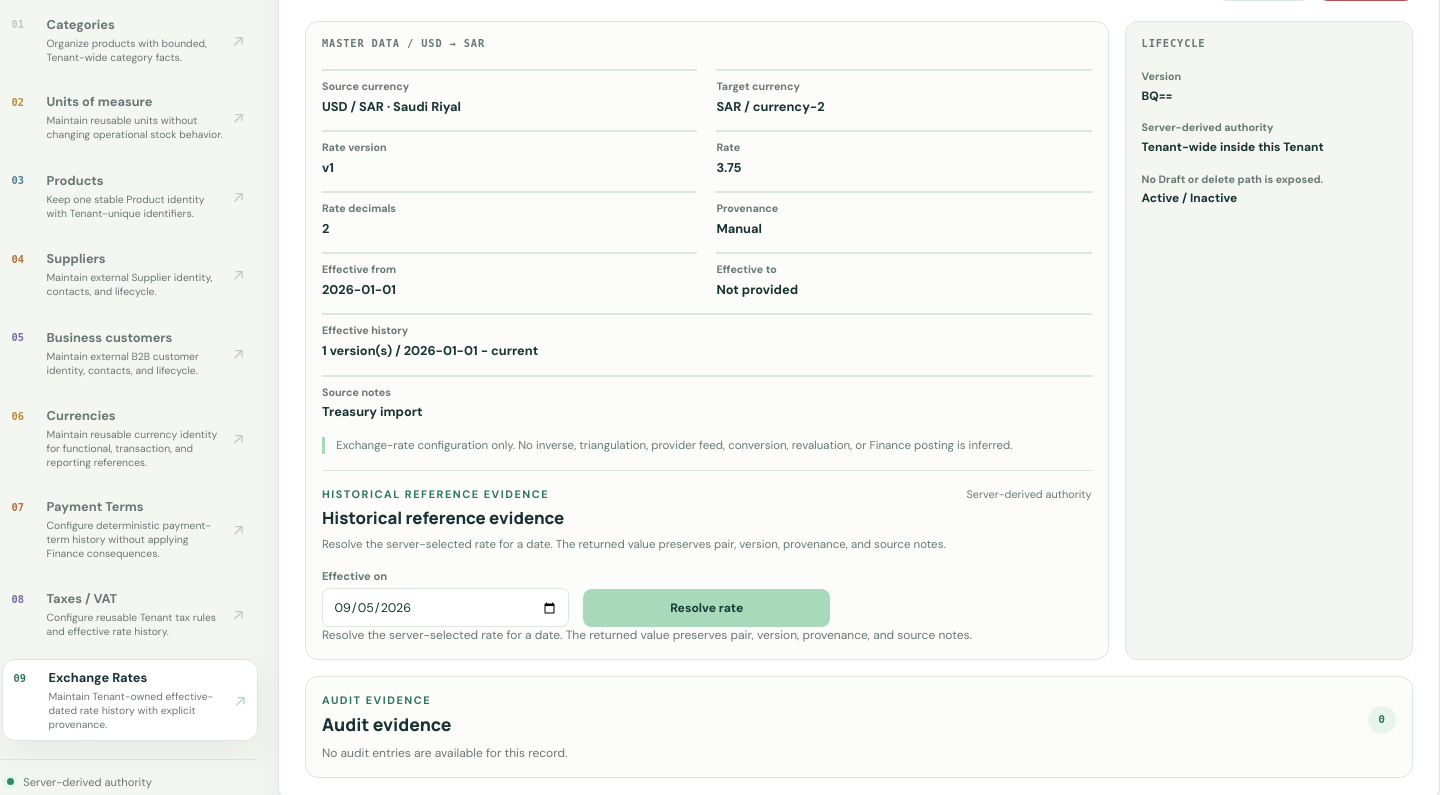
Test case: MasterDataWorkspaceComponent › renders Exchange Rate pair history and resolves historical reference evidence
(page scrolled)
Type "2026-02-01" into the date field named "exchangeReferenceDate" at x=445, y=608, box left=322, top=588, right=569, bottom=627
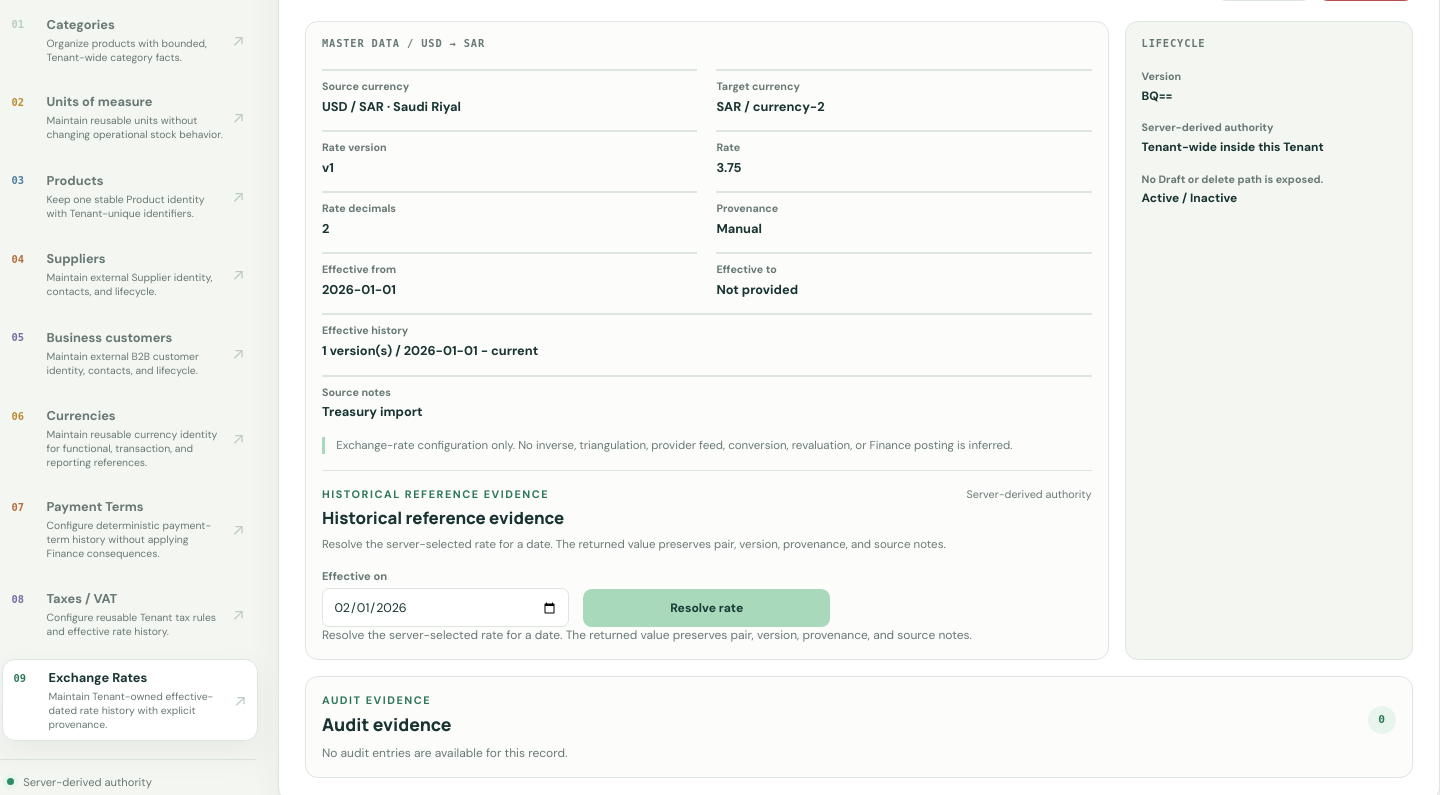
Click the button "Resolve rate" at x=707, y=608, box left=583, top=589, right=830, bottom=627
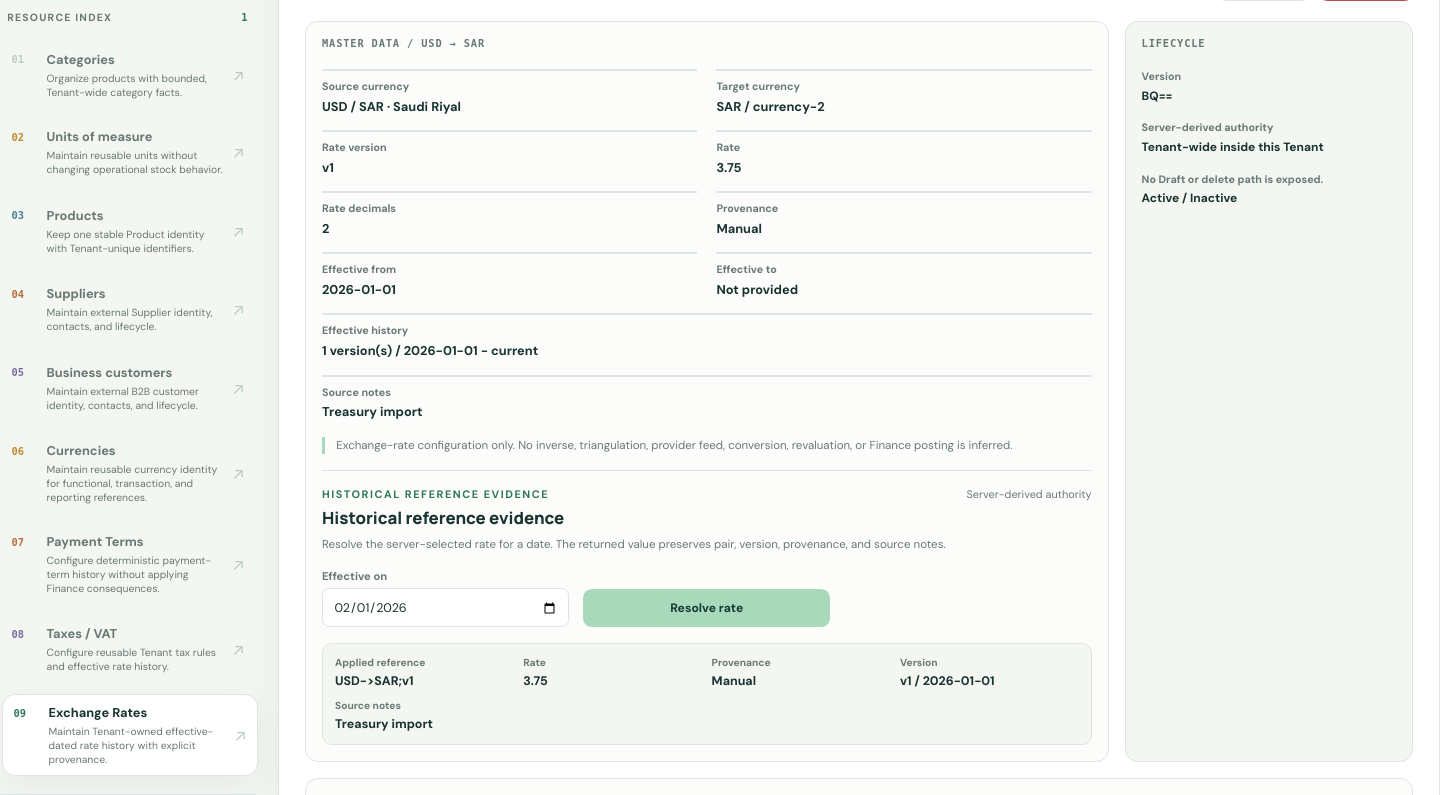
Expected: the text "USD->SAR;v1" is shown, left=335, top=673, right=414, bottom=689
